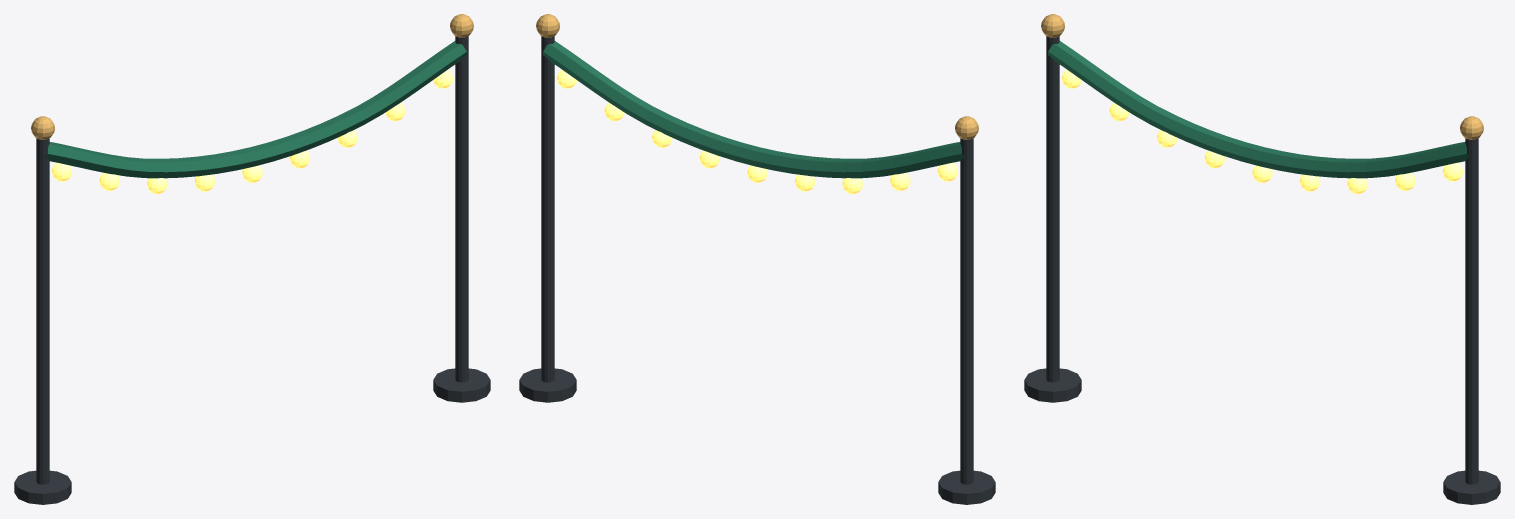
Rendered from garland.glb.
The picture shows the model from 3 angles, left to right: view 1: azimuth 30°, elevation 25°; view 2: azimuth 150°, elevation 25°; view 3: azimuth 330°, elevation 25°; orthographic projection.
Parts seen in each view (by area): view 1: light-garland; view 2: light-garland; view 3: light-garland.
Part boxes in pixels (x1,y1,x2,y2): light-garland: (14, 14, 490, 504); light-garland: (519, 14, 995, 504); light-garland: (1024, 14, 1500, 504).
Size of the model in its own units: 2.46 by 1.89 by 0.26.
